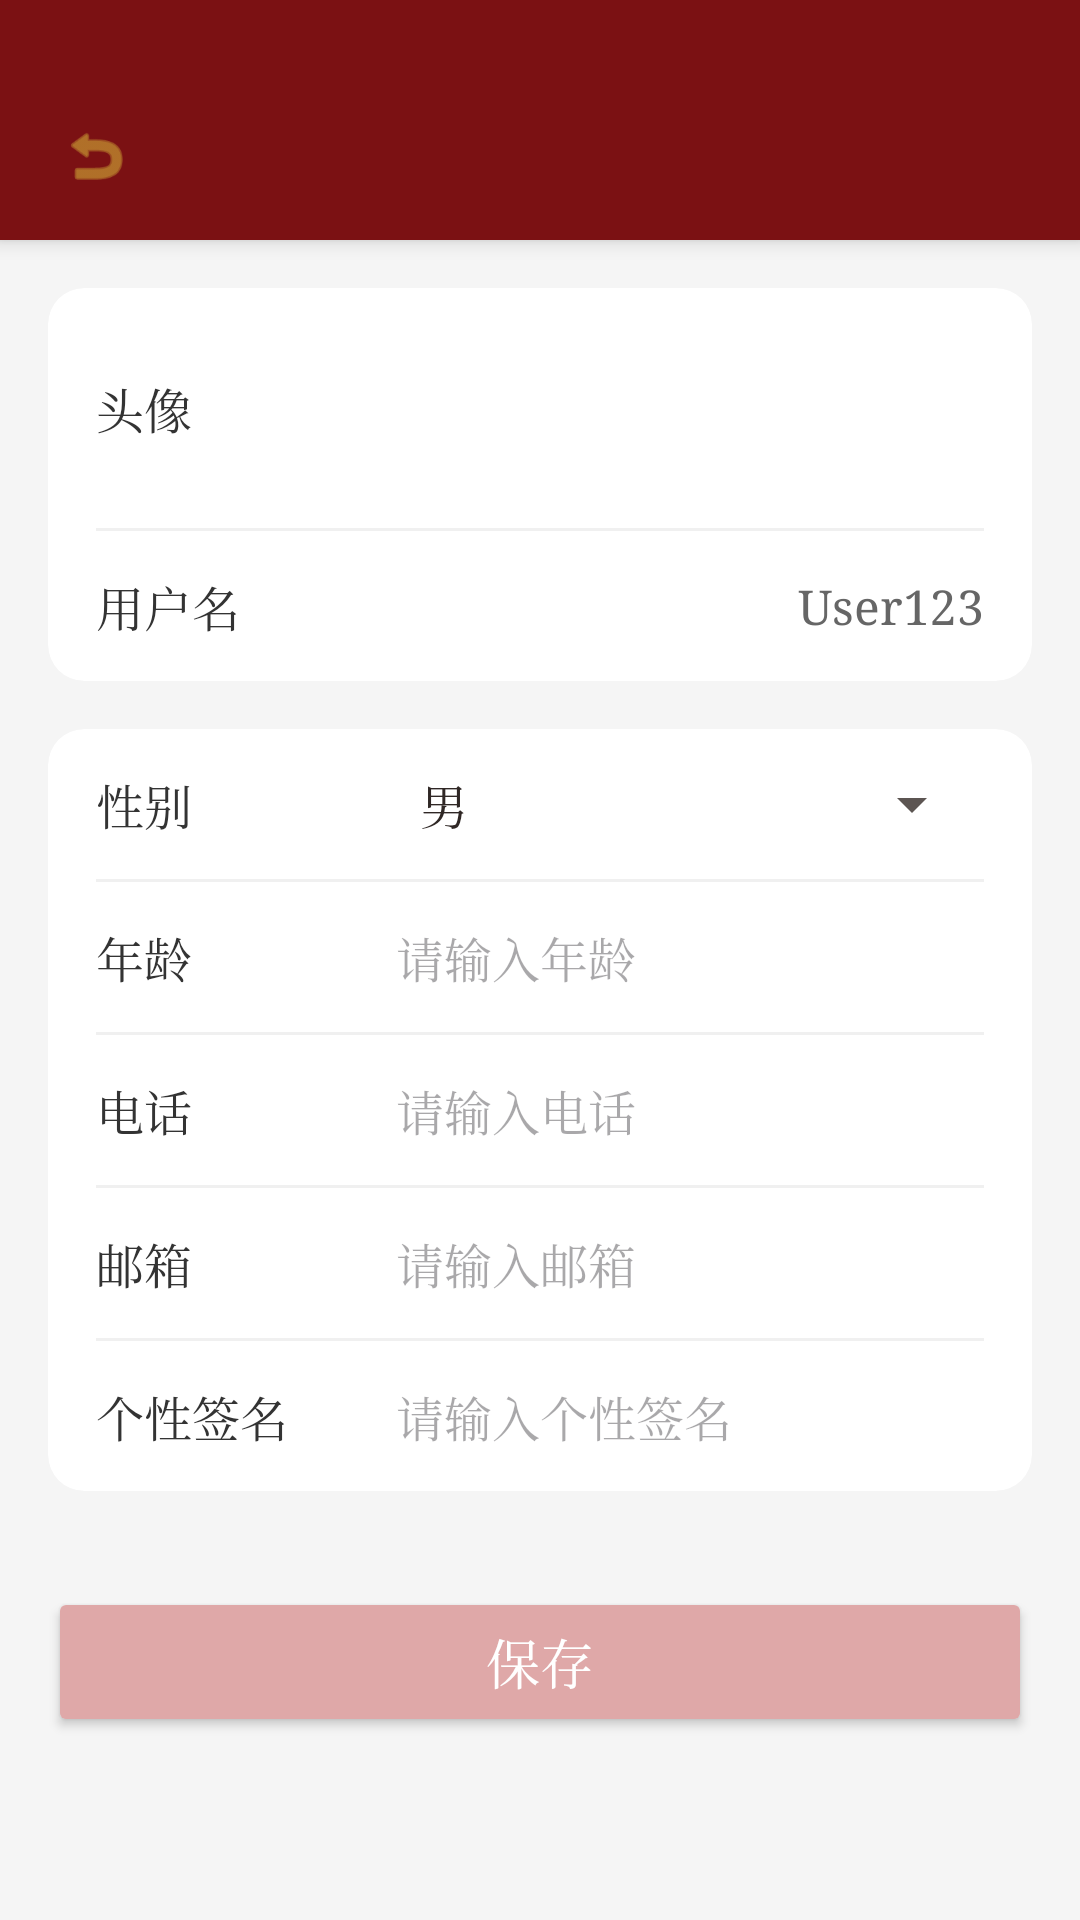

Icon bounding boxes for this 1080px x 1920px phone screenshot, format (x1,y1,x2,y2):
revert: (71,133,123,180)
